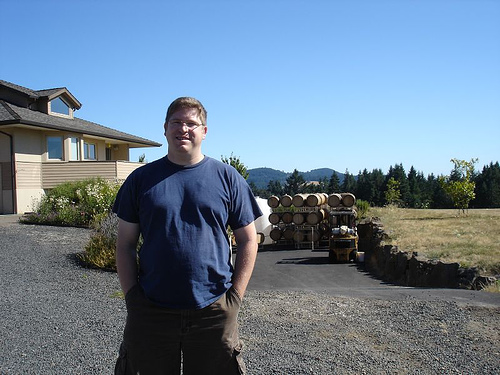without_mask: (164, 108, 207, 155)
